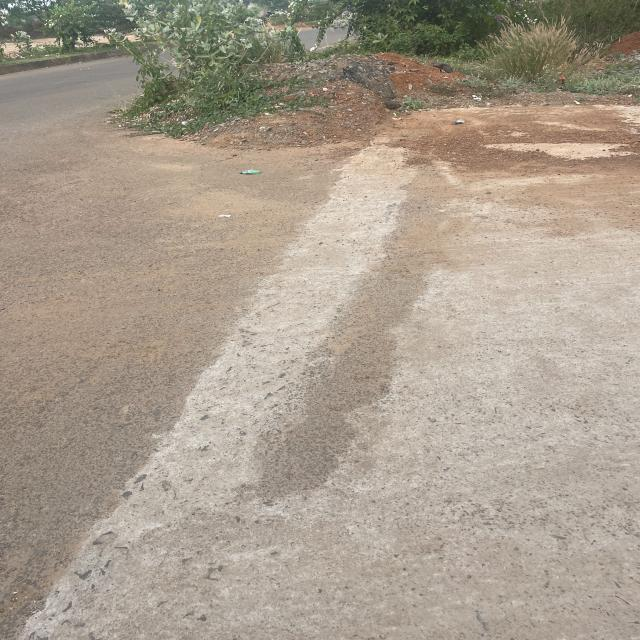D43: (37, 170, 500, 582)
